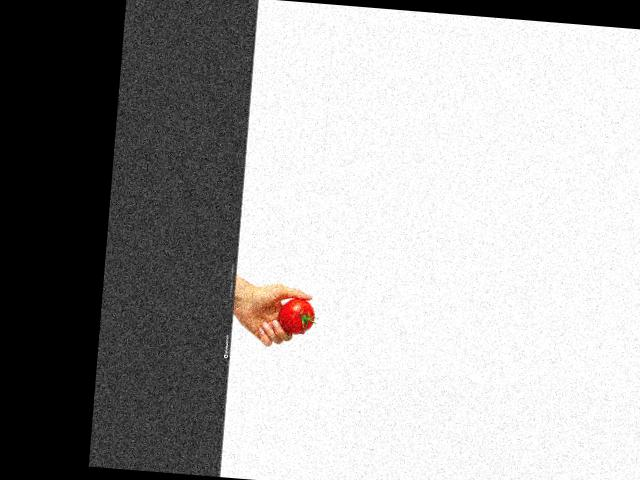tomato: (277, 296, 316, 334)
